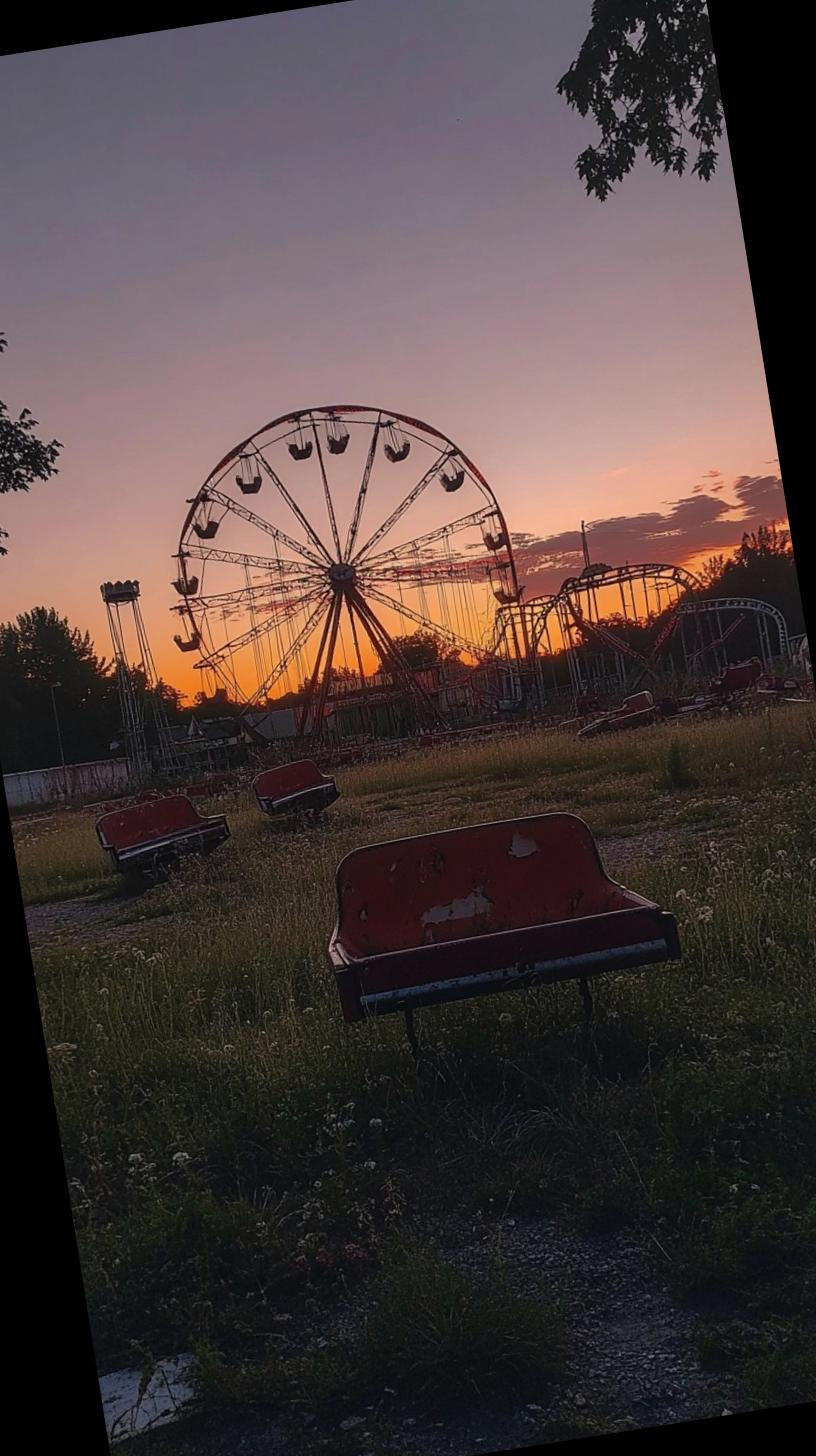overgrown grass: (412, 1010, 816, 1416), (36, 952, 384, 1369), (160, 1343, 536, 1456), (328, 707, 678, 804), (670, 797, 816, 1008), (166, 839, 322, 1008), (683, 694, 816, 792), (573, 749, 722, 830), (11, 821, 105, 901)
